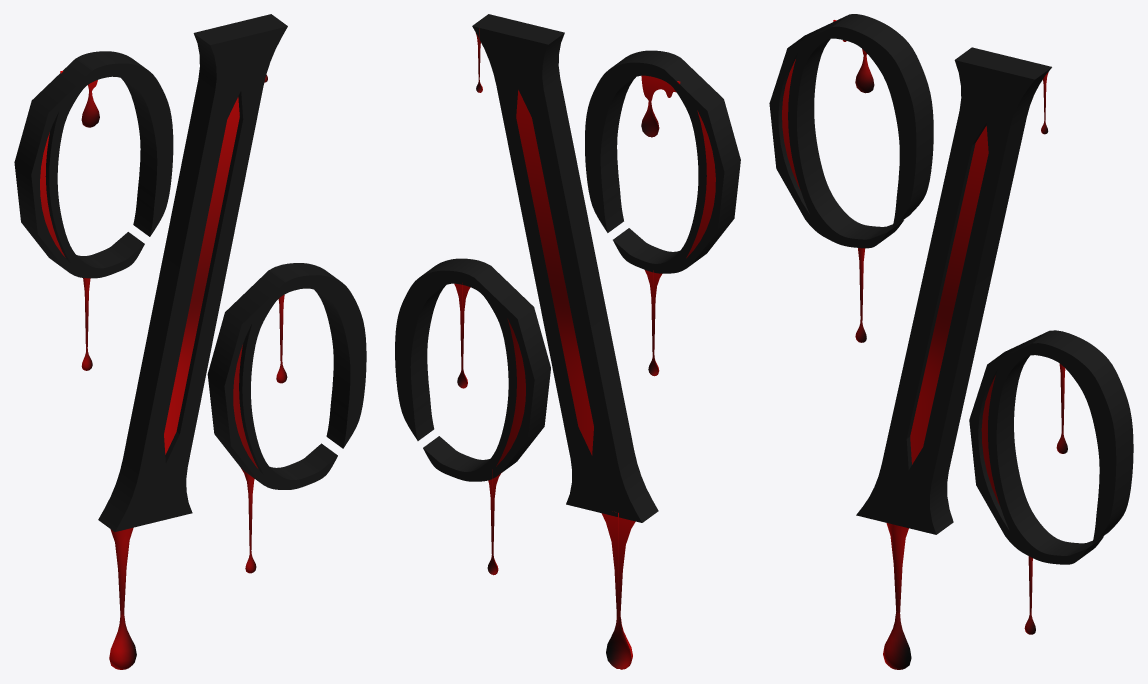
Rendered from Interest.FBX.
3 views of the same model, side by side, from view 1: azimuth 30°, elevation 25°; view 2: azimuth 150°, elevation 25°; view 3: azimuth 330°, elevation 25° (orthographic). The views are drawn at different scales.
Parts seen in each view (by area): view 1: Interest, Interest_Element, Blood_415, Blood_425; view 2: Interest, Interest_Element, Blood_415, Blood_407, Blood_434, Blood_408, Blood_425; view 3: Interest, Interest_Element, Blood_415.
Part boxes in pixels (<box>): Interest: <box>14,14,366,531</box>; Interest_Element: <box>40,97,258,468</box>; Blood_415: <box>109,527,136,669</box>; Blood_425: <box>241,468,256,573</box>; Interest: <box>395,14,740,522</box>; Interest_Element: <box>496,90,715,466</box>; Blood_415: <box>601,513,635,669</box>; Blood_407: <box>641,75,680,137</box>; Blood_434: <box>645,270,662,376</box>; Blood_408: <box>454,283,470,388</box>; Blood_425: <box>487,469,501,575</box>; Interest: <box>769,14,1133,564</box>; Interest_Element: <box>782,59,999,505</box>; Blood_415: <box>883,523,911,669</box>.
Size of the model in its own units: 57.78 by 103 by 5.04.
Materials: 2 (1 with a texture image).
